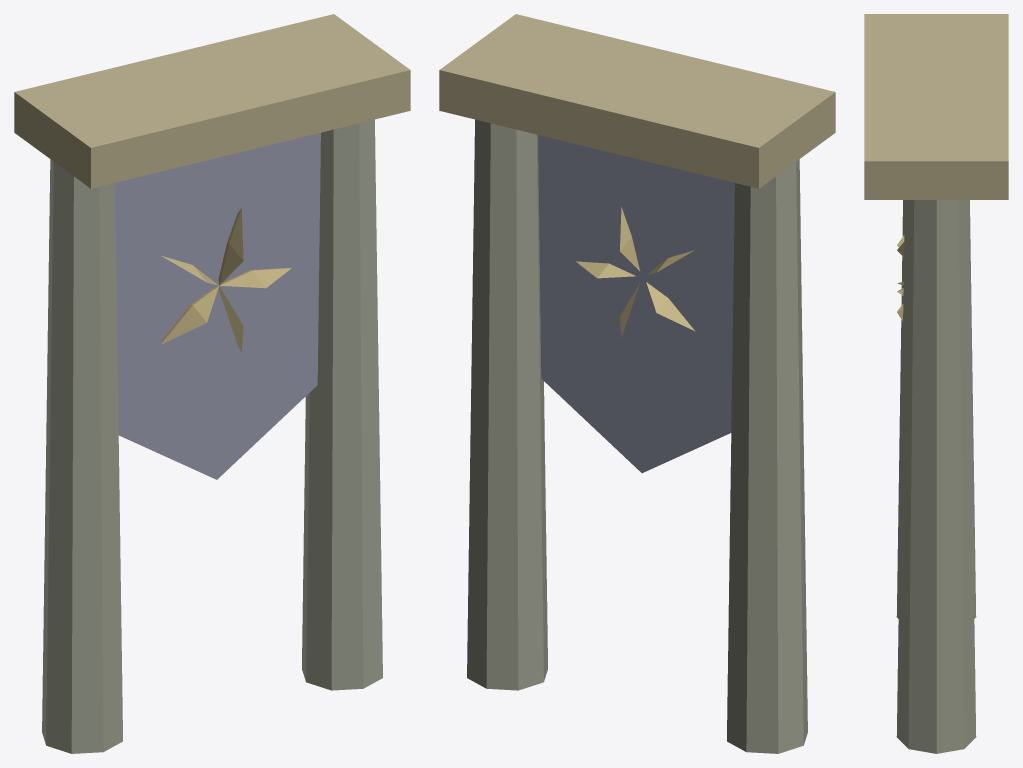
File: map-exclusive-v3__champion_04.glb
3 views of the same model, side by side, from view 1: azimuth 30°, elevation 25°; view 2: azimuth 150°, elevation 25°; view 3: azimuth 270°, elevation 25° (orthographic). The views are drawn at different scales.
Visible parts, largest first — view 1: champion_04; view 2: champion_04; view 3: champion_04.
Boxes of the visible parts, x1,y1,x2,y2 form: champion_04: (14, 14, 410, 753); champion_04: (439, 14, 835, 753); champion_04: (864, 14, 1008, 753).
Size of the model in its own units: 1.28 by 2.3 by 0.51.
